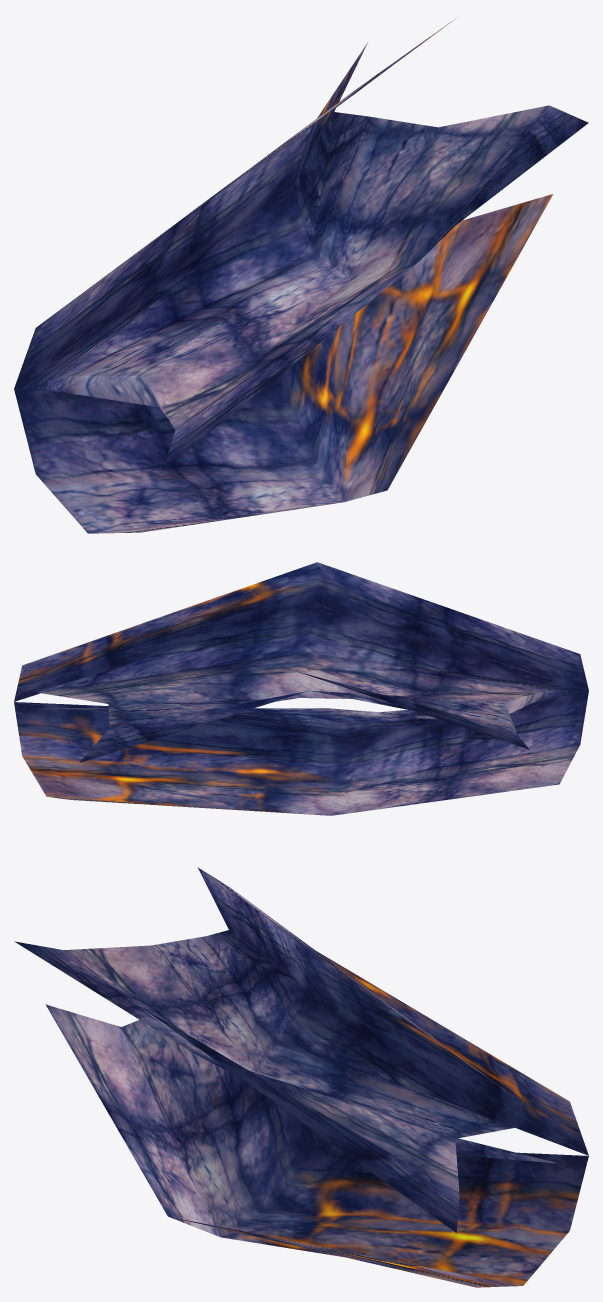
3 renders of one model, top to bottom at view 1: azimuth 30°, elevation 25°; view 2: azimuth 150°, elevation 25°; view 3: azimuth 270°, elevation 25°, orthographic. The views are drawn at different scales.
Parts seen in each view (by area): view 1: 09; view 2: 09; view 3: 09.
Boxes of the visible parts, left/top/right/bottom form: 09: left=14, top=18, right=588, bottom=533; 09: left=14, top=562, right=588, bottom=815; 09: left=14, top=867, right=588, bottom=1287.
Bounding box in the file's own units: 13374 × 7357 × 10708.
Materials: 2 (2 with a texture image).
